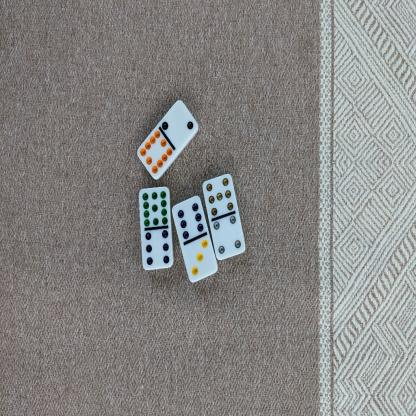pip-10: (137, 128, 173, 179)
pip-11: (138, 186, 171, 227)
pip-2: (160, 98, 198, 144)
pip-3: (184, 238, 218, 284)
pip-4: (212, 213, 246, 260)
pip-6: (171, 194, 204, 240), (141, 226, 173, 272)
pip-7: (201, 172, 233, 216)
